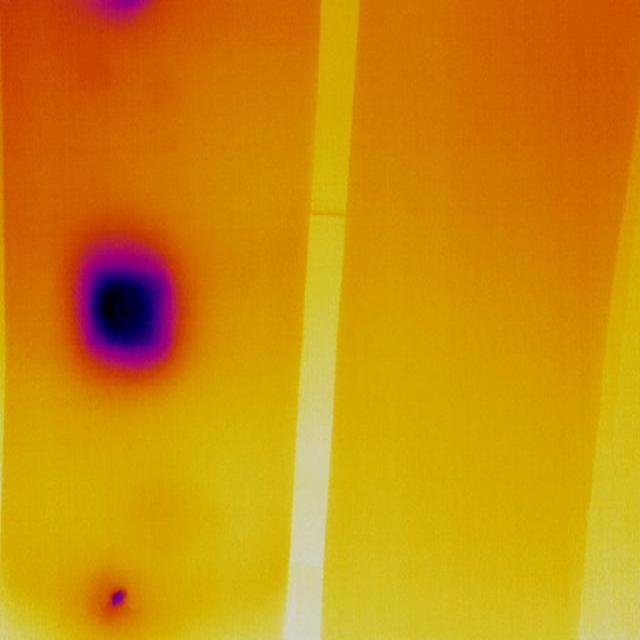leakage: (70, 250, 186, 378), (100, 570, 139, 618), (98, 0, 146, 23)
